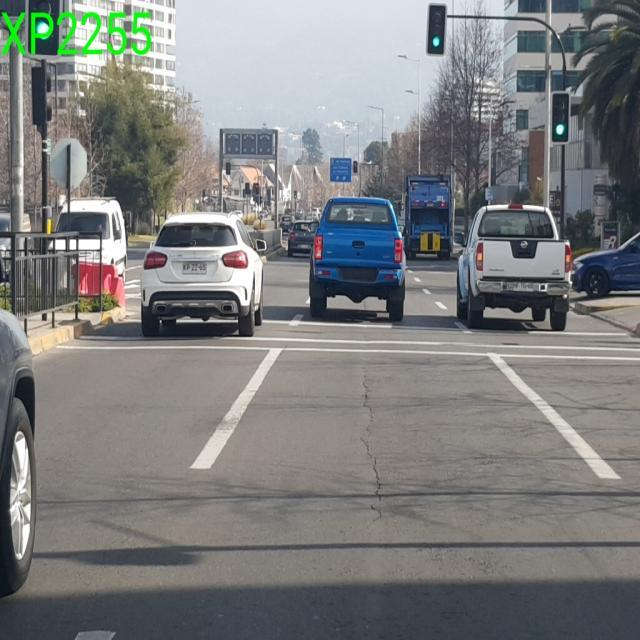16-Wheelers: (402, 173, 453, 260)
Car: (139, 210, 267, 337), (0, 306, 37, 598), (570, 230, 639, 298)
Pickup: (454, 201, 572, 330), (307, 195, 406, 321)
Traffic-light: (426, 3, 446, 55), (550, 91, 569, 143)
